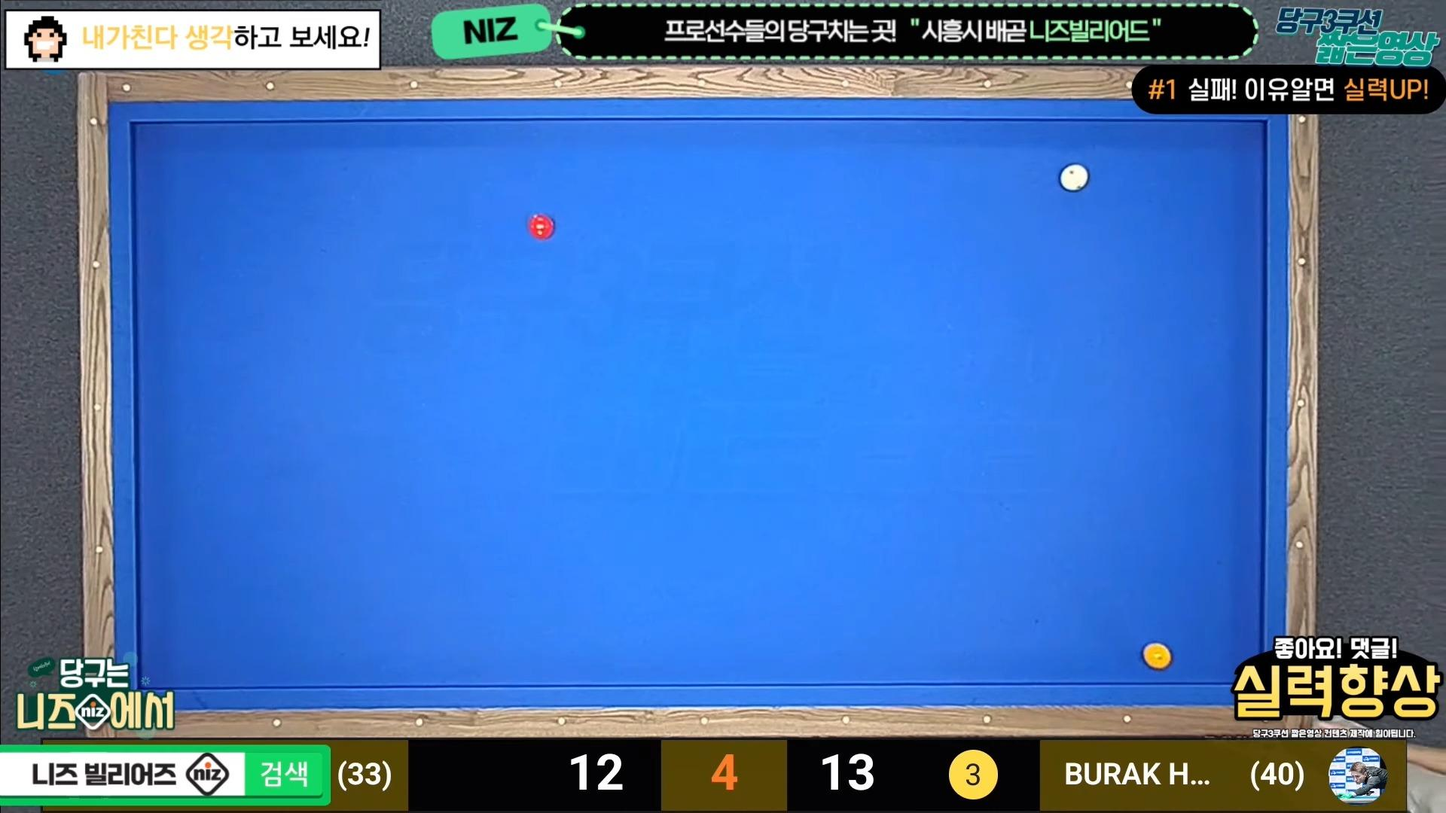-billiard-ball: (1058, 163, 1089, 192)
Red: (528, 215, 561, 242)
White: (1056, 165, 1090, 193)
Yellow: (1139, 644, 1173, 672)
